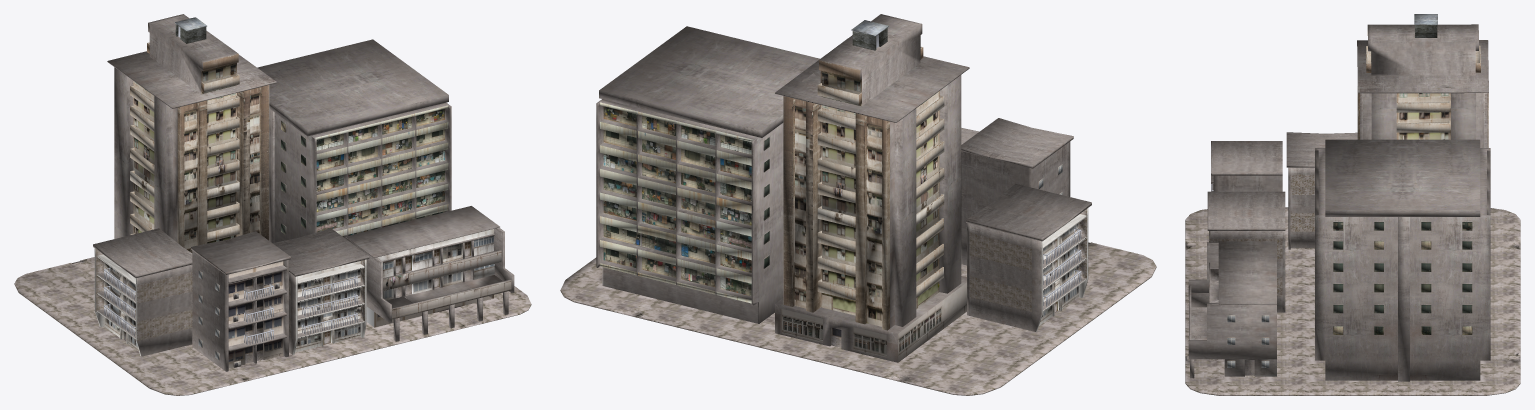
Rendered from CityBlockC.obj.
The picture shows the model from 3 angles, left to right: view 1: azimuth 30°, elevation 25°; view 2: azimuth 150°, elevation 25°; view 3: azimuth 270°, elevation 25°; orthographic projection. The views are drawn at different scales.
Visible parts, largest first — view 1: CityBlockC; view 2: CityBlockC; view 3: CityBlockC.
Boxes of the visible parts, bbox=[...] form: CityBlockC: bbox=[14, 14, 531, 395]; CityBlockC: bbox=[560, 14, 1156, 395]; CityBlockC: bbox=[1185, 14, 1520, 395].
Size of the model in its own units: 2028 by 1316 by 1530.
